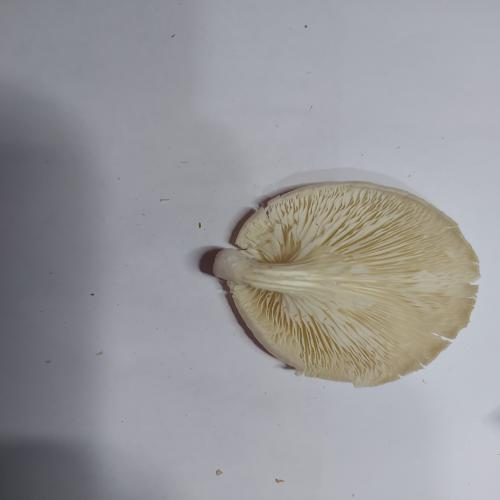Oyster Mushroom: (211, 179, 481, 388)
